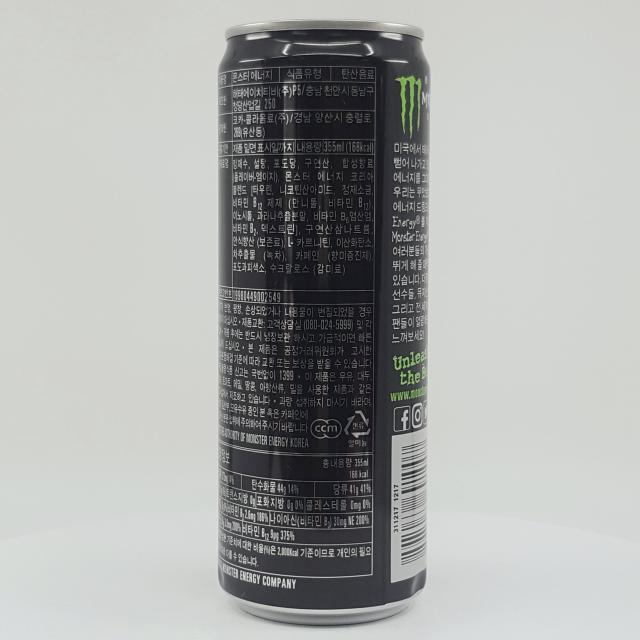--------355ML: (218, 19, 430, 625)
